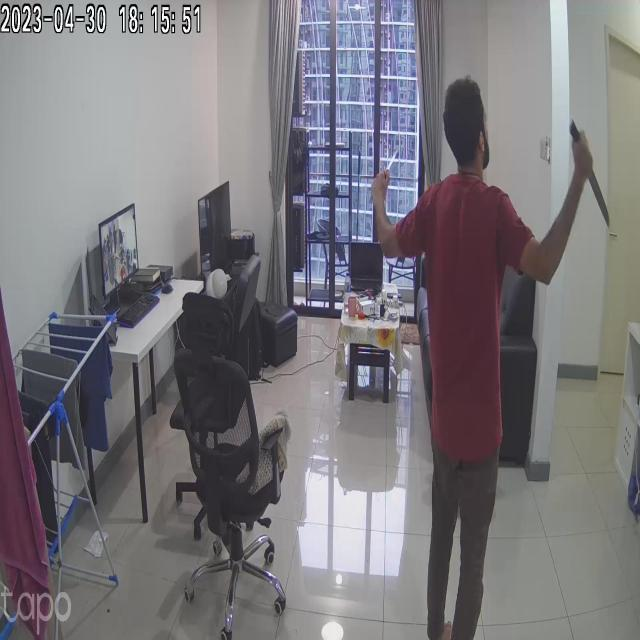Knife: (558, 120, 622, 232), (367, 146, 403, 204)
